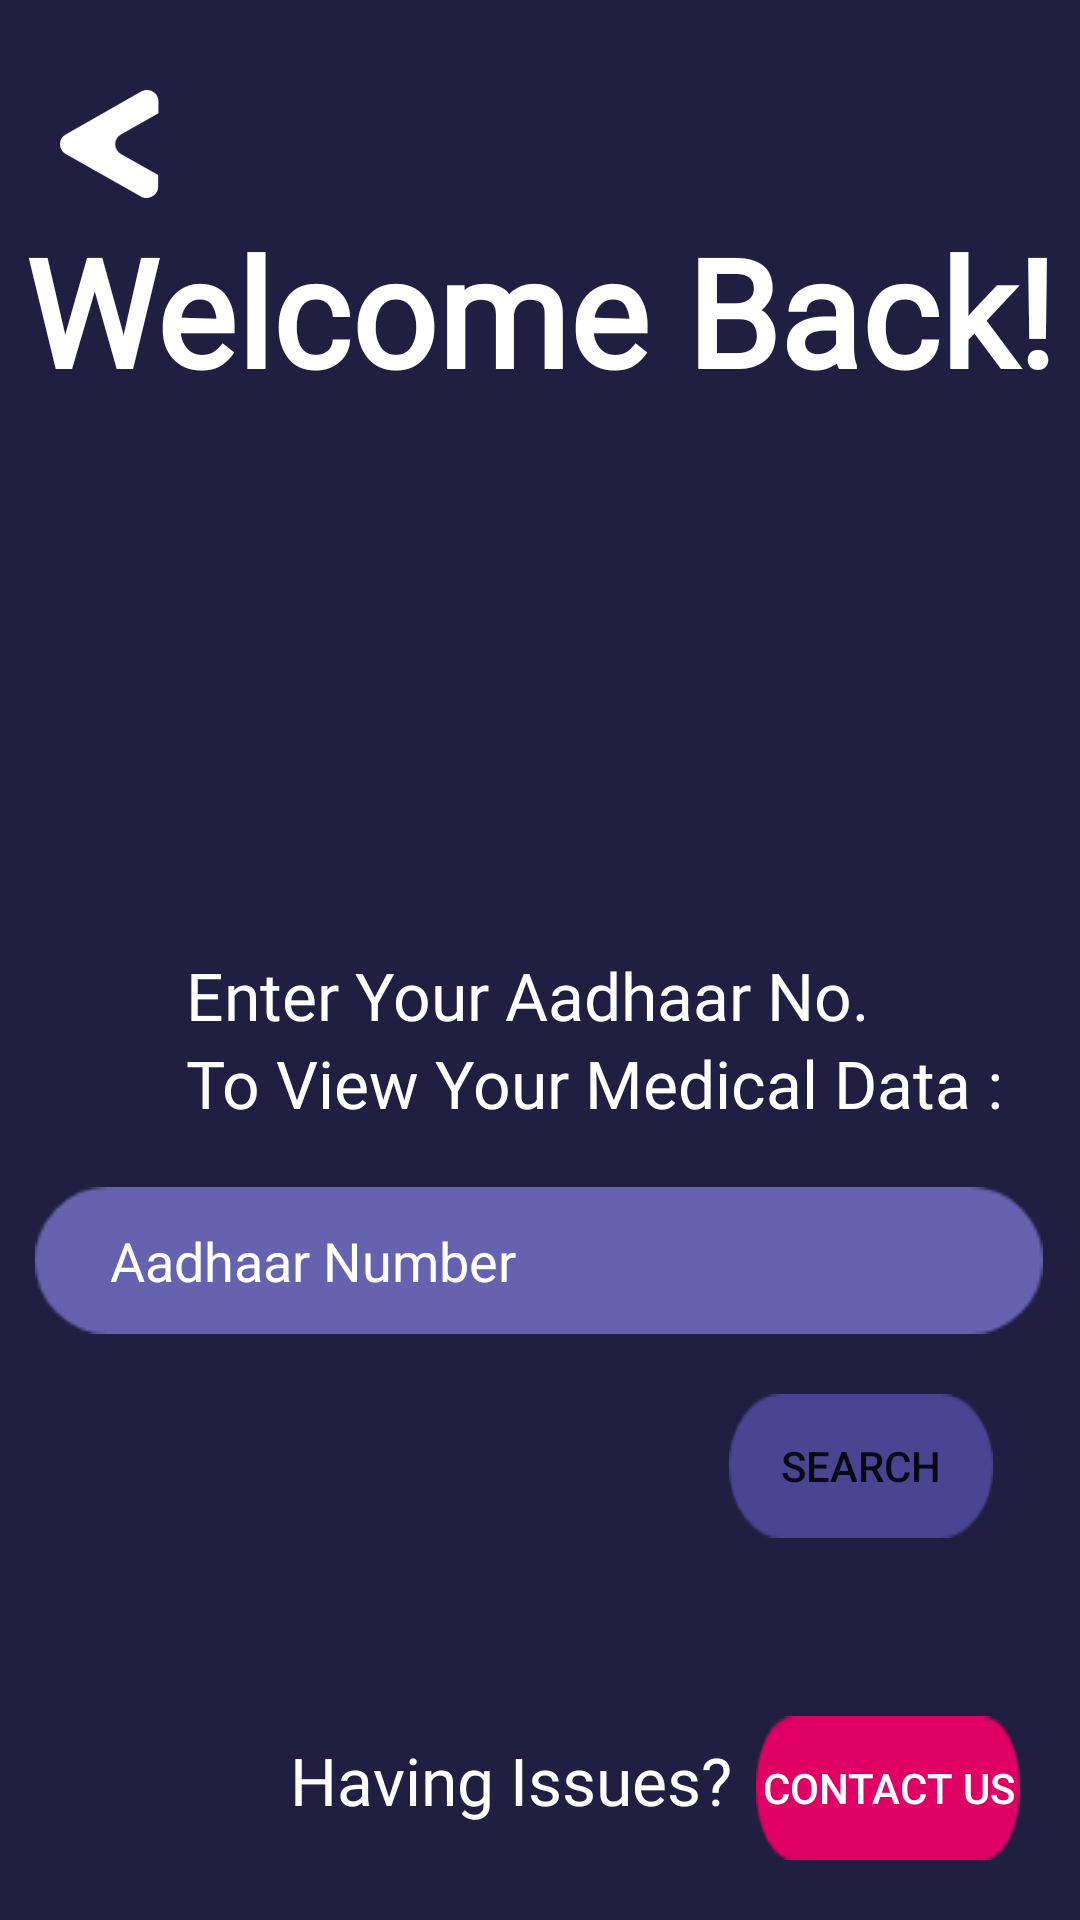

Where to tap for icons on this 1080*1920 app screen, as (x,y):
backbtn: (109,144)
